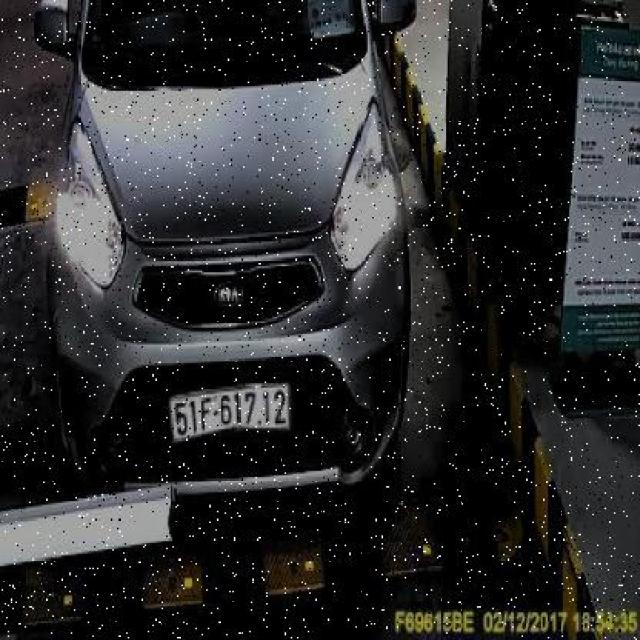number_plate: (168, 382, 294, 440)
